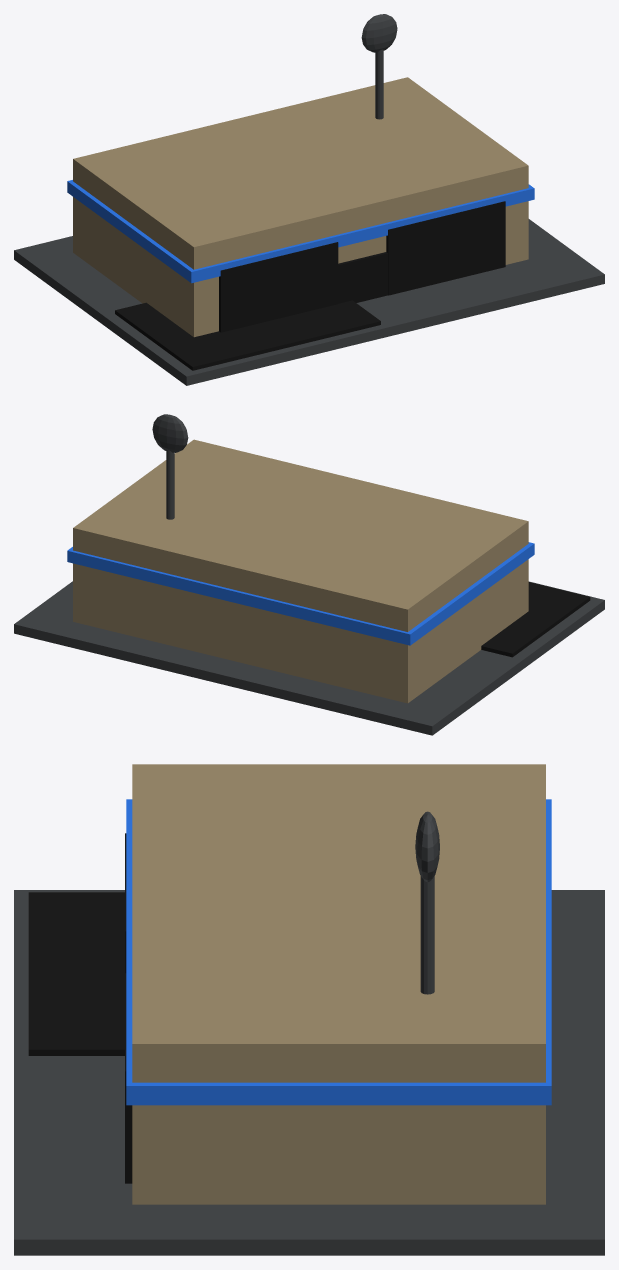
File: ae_strike_package.glb
3 renders of one model, top to bottom at view 1: azimuth 30°, elevation 25°; view 2: azimuth 150°, elevation 25°; view 3: azimuth 270°, elevation 25°, orthographic. The views are drawn at different scales.
Visible parts, largest first — view 1: main, base, pad, garage_1, garage_0, team_band, door, dish, mast; view 2: main, base, team_band, pad, dish, mast; view 3: main, base, pad, team_band, mast, dish, garage_1.
Boxes of the visible parts, <box> form: main: <box>73,77,528,337</box>; base: <box>14,219,604,385</box>; pad: <box>115,300,380,370</box>; garage_1: <box>386,201,505,295</box>; garage_0: <box>219,242,338,332</box>; team_band: <box>67,180,534,283</box>; door: <box>338,252,387,303</box>; dish: <box>361,14,397,52</box>; mast: <box>375,49,383,119</box>; main: <box>73,439,528,703</box>; base: <box>14,581,604,735</box>; team_band: <box>67,542,534,645</box>; pad: <box>481,582,590,657</box>; dish: <box>152,414,188,452</box>; mast: <box>166,450,174,519</box>; main: <box>132,764,545,1204</box>; base: <box>14,890,604,1255</box>; pad: <box>28,892,124,1055</box>; team_band: <box>126,799,551,1105</box>; mast: <box>420,876,434,994</box>; dish: <box>415,811,439,882</box>; garage_1: <box>125,973,132,1183</box>.
Size of the model in its own units: 14 by 6.6 by 10.
